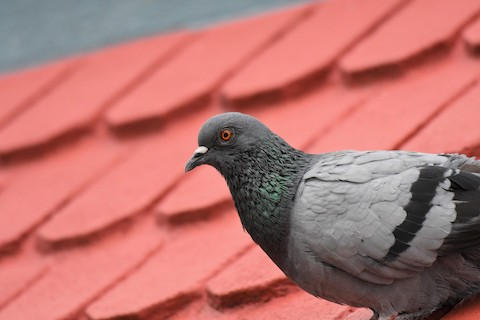pigeon: (178, 104, 473, 315)
